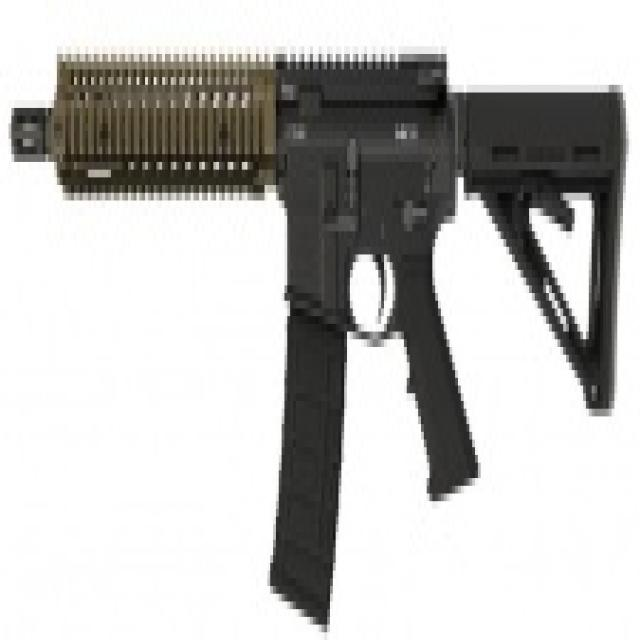rifle: (7, 36, 629, 623)
